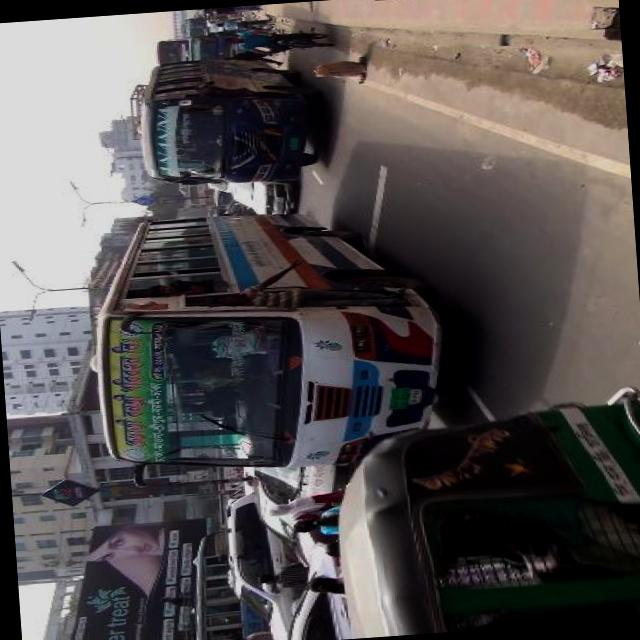bus: (78, 200, 453, 482), (122, 50, 328, 189), (178, 527, 276, 640), (179, 31, 257, 62), (178, 14, 232, 38), (149, 37, 195, 64)
car: (220, 488, 320, 640), (268, 541, 362, 640), (245, 474, 322, 568), (225, 175, 298, 218)
motorcycle: (323, 382, 640, 638), (200, 187, 236, 210)
truck: (228, 428, 364, 508)
